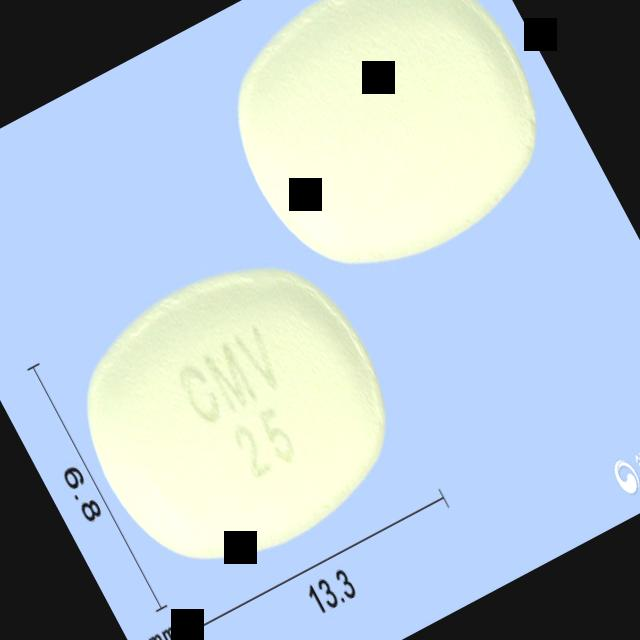Clocide: (42, 221, 430, 606)
